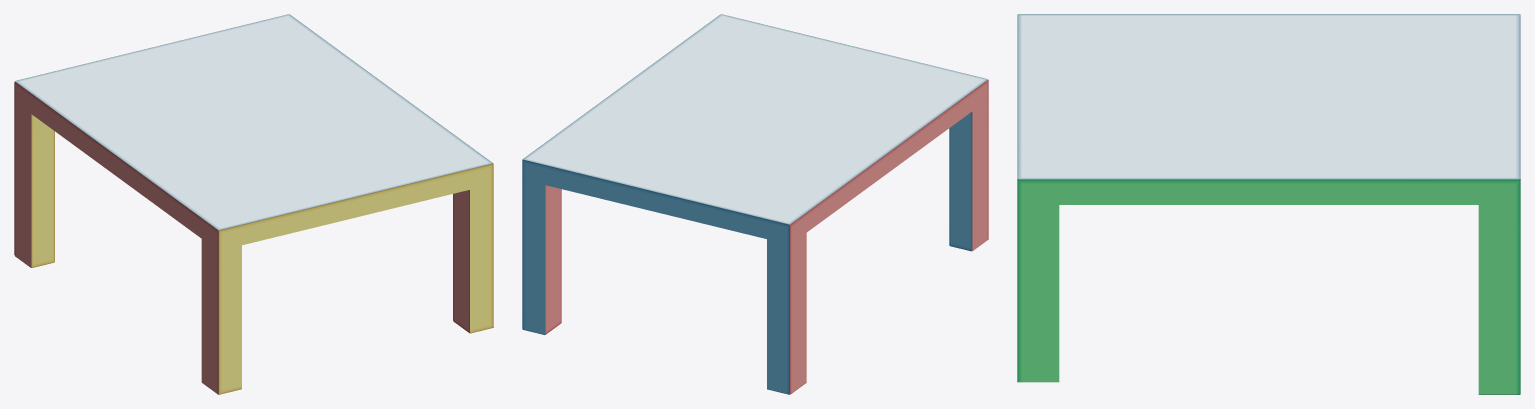
The model's file is Table.obj.
3 views of the same model, side by side, from view 1: azimuth 30°, elevation 25°; view 2: azimuth 150°, elevation 25°; view 3: azimuth 270°, elevation 25° (orthographic). The views are drawn at different scales.
Parts seen in each view (by area): view 1: cuboid; view 2: cuboid; view 3: cuboid.
Boxes of the visible parts, box(x1,y1,x2,y2) form: cuboid: box(14, 14, 493, 394); cuboid: box(522, 14, 988, 394); cuboid: box(1017, 14, 1520, 394).
Size of the model in its own units: 0.4375 by 0.2656 by 0.5625.
1 material, 1 textured.
